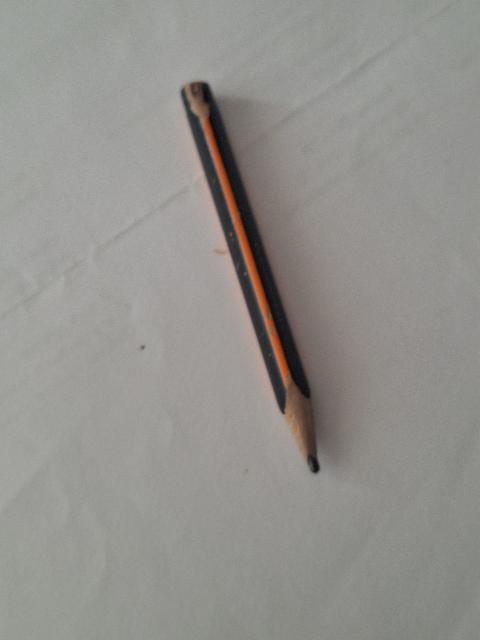writing_tool: (179, 79, 323, 474)
